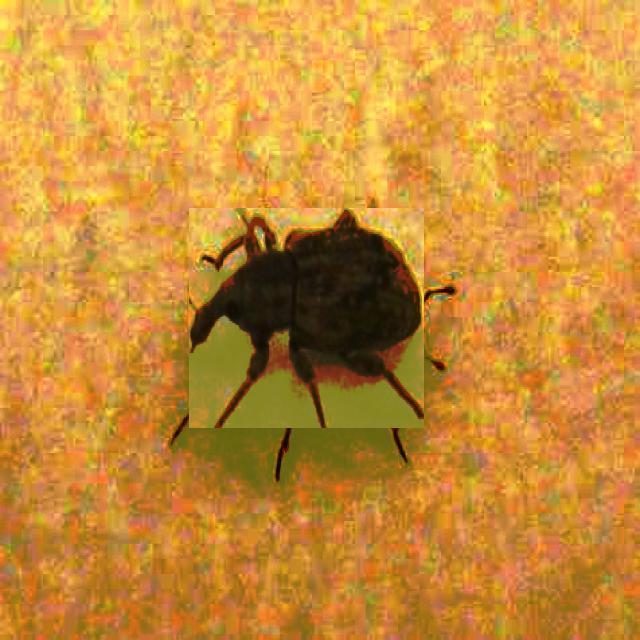rice-bug: (189, 209, 424, 429)
